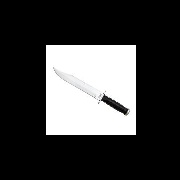k1: (51, 65, 108, 105)
